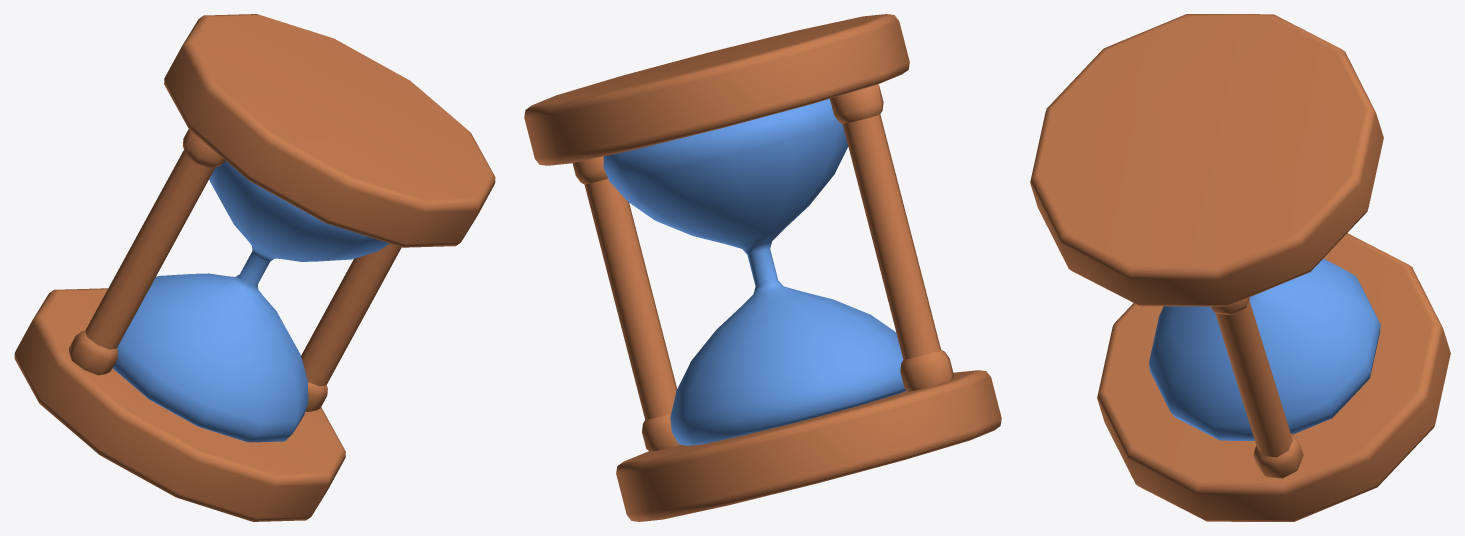
The picture shows the model from 3 angles, left to right: view 1: azimuth 30°, elevation 25°; view 2: azimuth 150°, elevation 25°; view 3: azimuth 270°, elevation 25°; orthographic projection. The views are drawn at different scales.
Parts seen in each view (by area): view 1: model_1.071; view 2: model_1.071; view 3: model_1.071.
Part boxes in pixels (<box>): model_1.071: <box>14,14,495,521</box>; model_1.071: <box>524,14,1001,521</box>; model_1.071: <box>1030,14,1450,521</box>.
Size of the model in its own units: 4.79 by 5.07 by 4.23.
